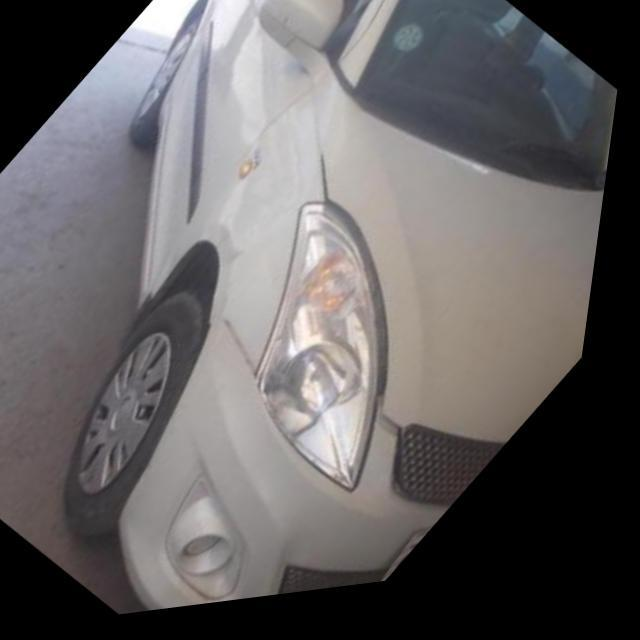dent: (209, 153, 309, 269)
dislocated part: (217, 312, 271, 406)
